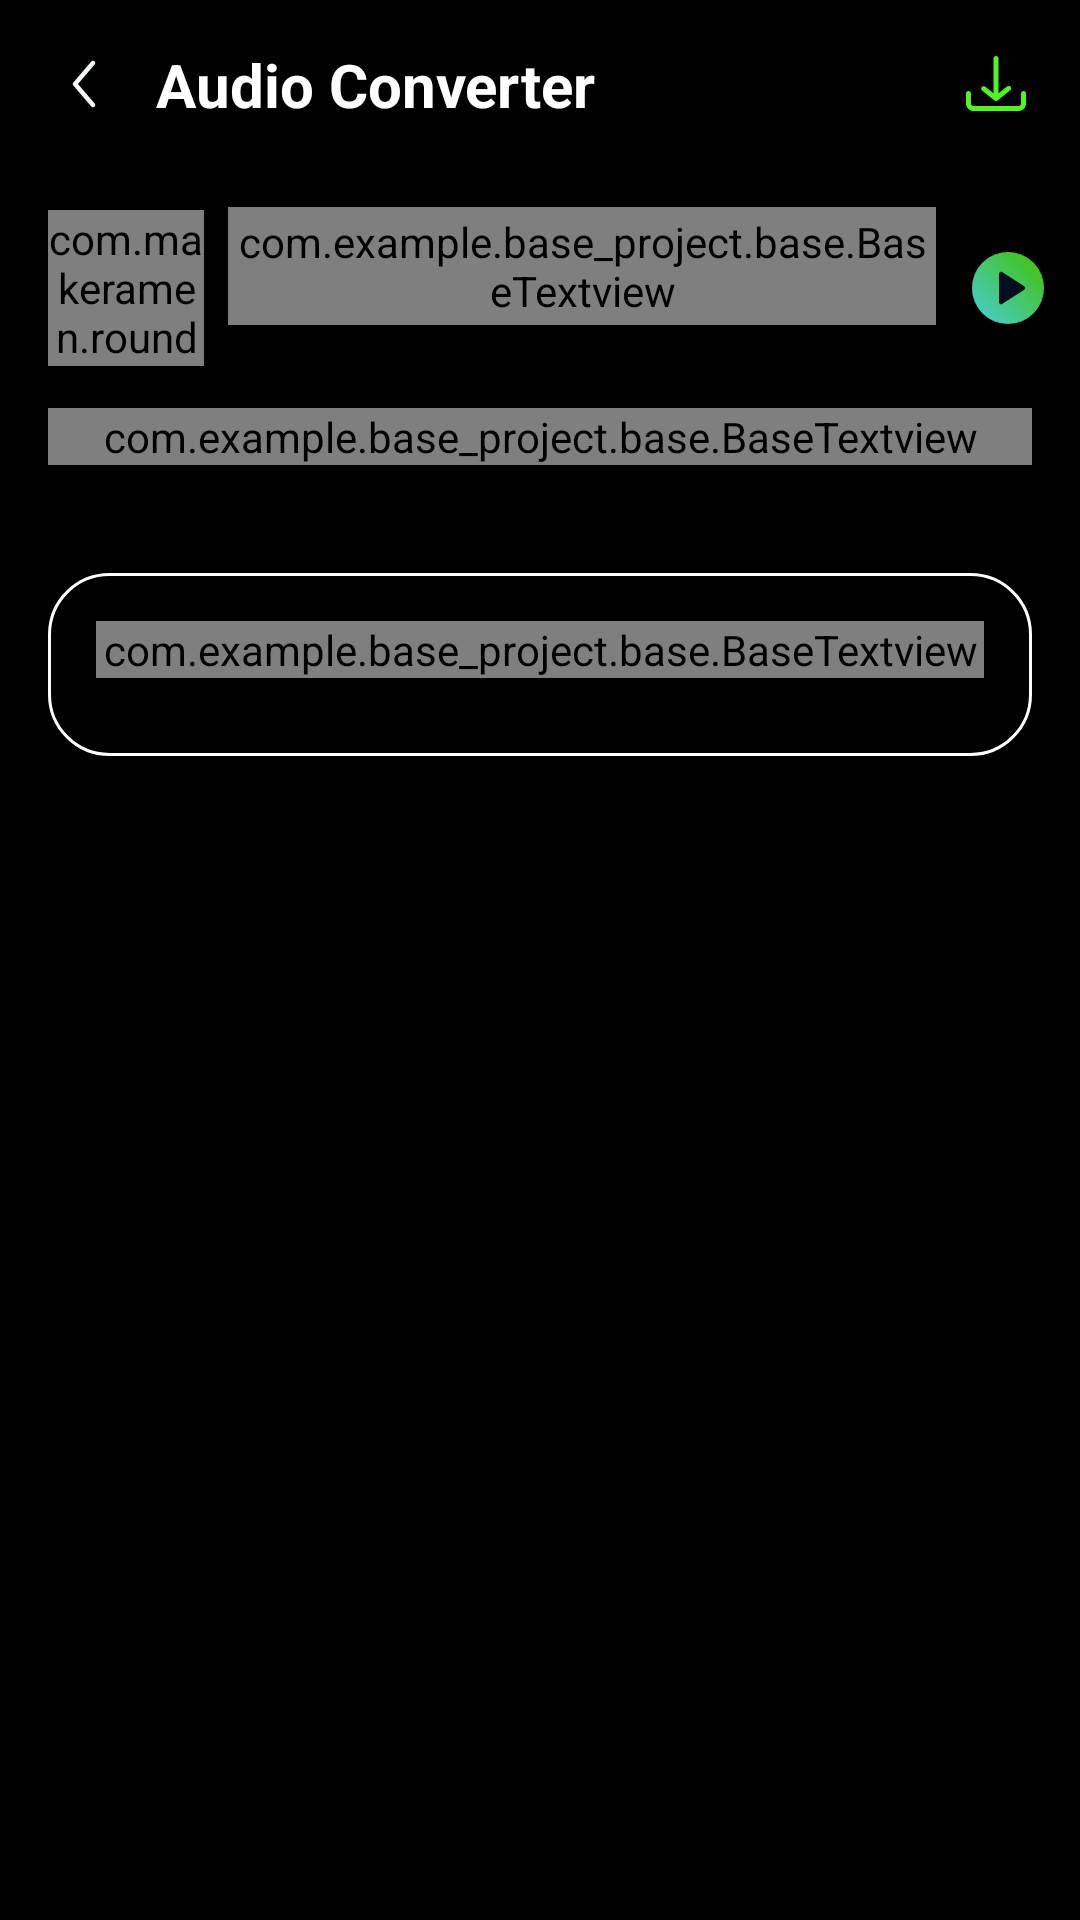

Named icons in this screenshot (1080px×1920px) and their bounding boxes, region(x1, y1, x2, y2):
back: region(72, 60, 96, 108)
download: region(966, 56, 1026, 111)
play: region(972, 252, 1044, 324)
